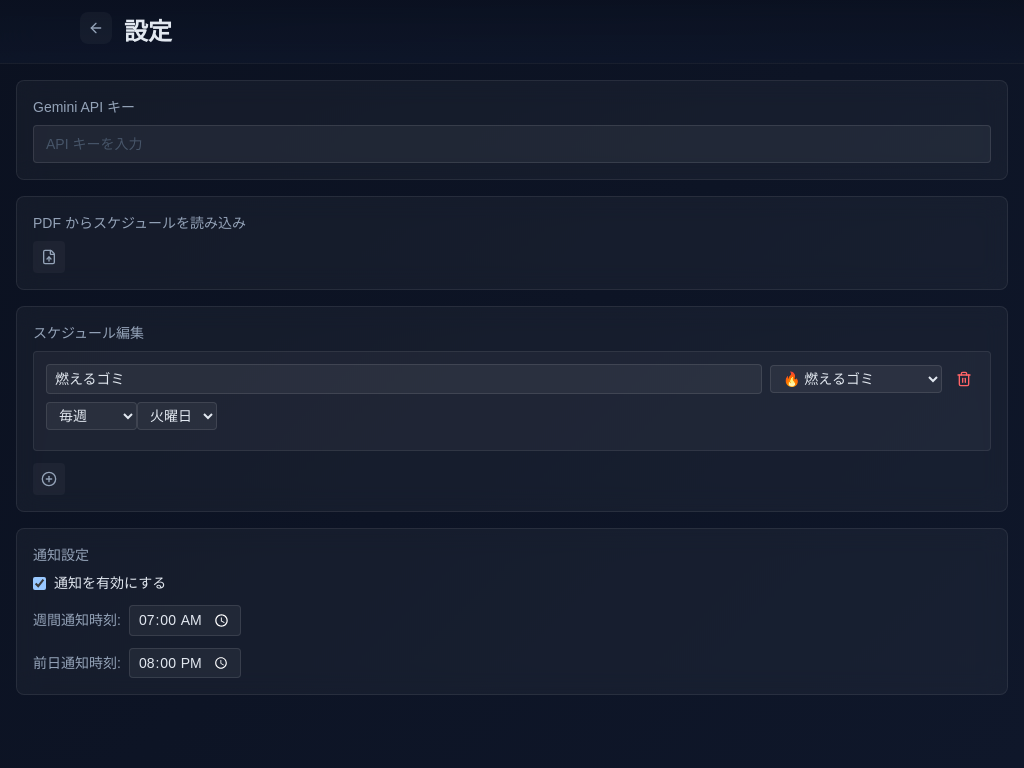
Test: Settings - トースト通知 › スケジュール自動保存時にトースト通知が表示される
Replace the text in the field showing "燃えるゴミ" with "プラ" at (404, 379), box 46,364 -> 762,394
Wait 500 ms
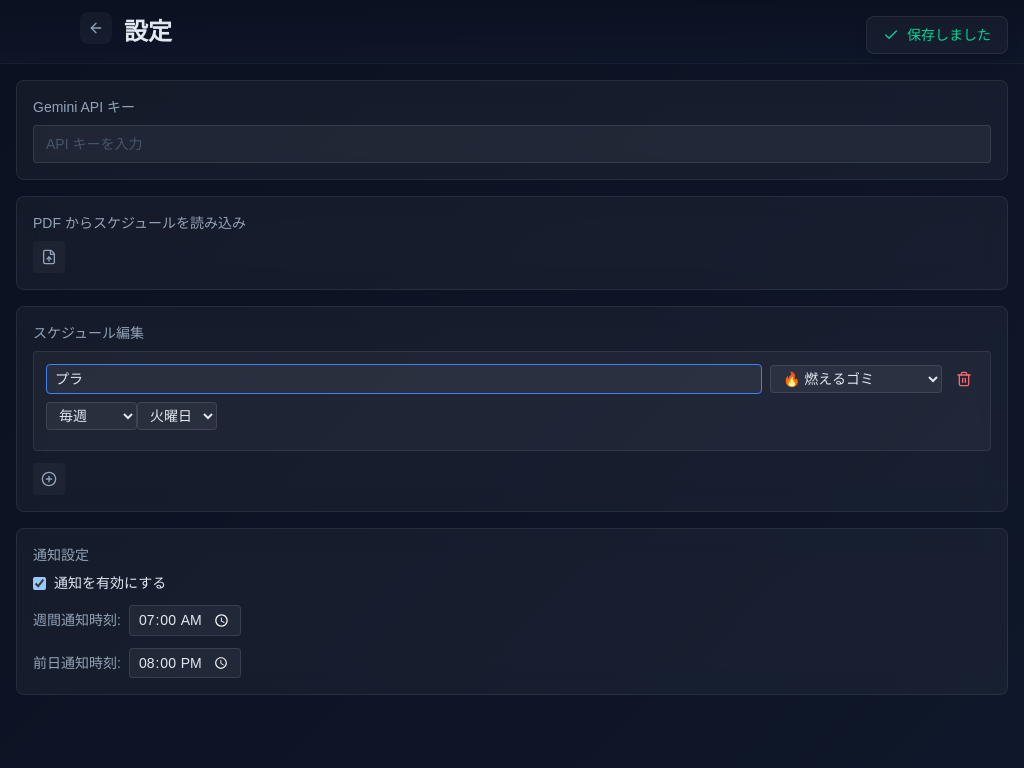
expect the text "保存しました" is shown: met, box 907,25 -> 991,45
